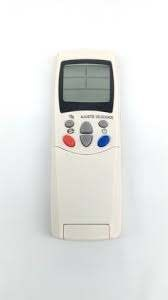remote control: (60, 48, 115, 237)
